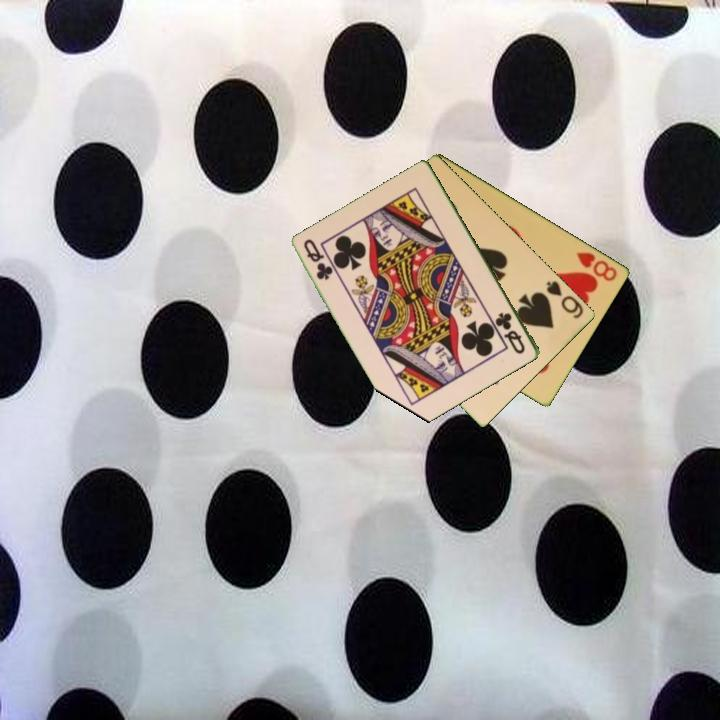6s: (543, 277, 587, 321)
8h: (573, 248, 621, 284)
Qc: (492, 309, 529, 357), (300, 235, 336, 283)
